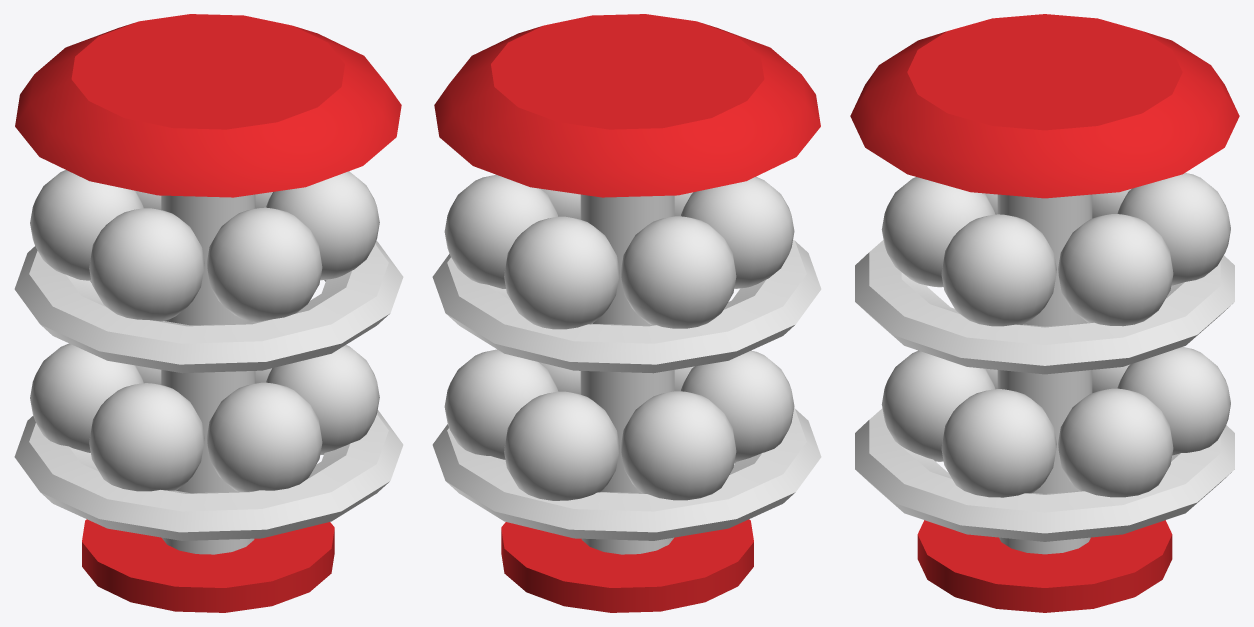
Rendered from BowlingRack.fbx.
3 views of the same model, side by side, from view 1: azimuth 30°, elevation 25°; view 2: azimuth 150°, elevation 25°; view 3: azimuth 270°, elevation 25° (orthographic).
Parts seen in each view (by area): view 1: BowlingRack; view 2: BowlingRack; view 3: BowlingRack.
Boxes of the visible parts, <box> form: BowlingRack: <box>14,14,403,612</box>; BowlingRack: <box>432,14,821,612</box>; BowlingRack: <box>850,14,1239,612</box>.
Bounding box in the file's own units: 169 × 233 × 169.
